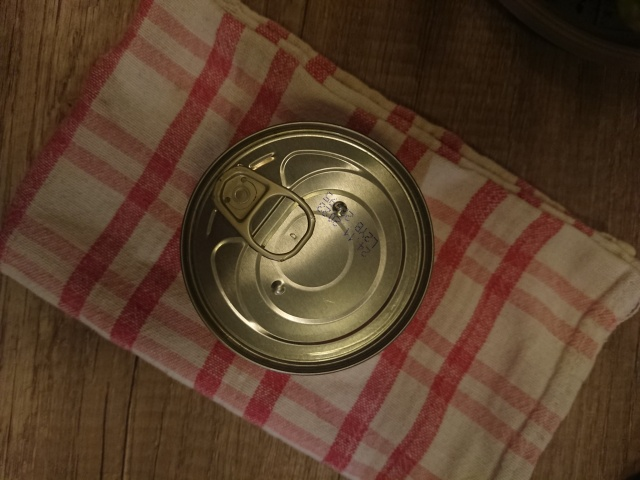Podravka Luncheon Meat 150g: (177, 118, 438, 379)
